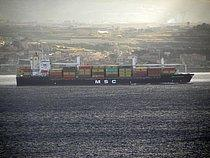Ship: (13, 48, 198, 90)
